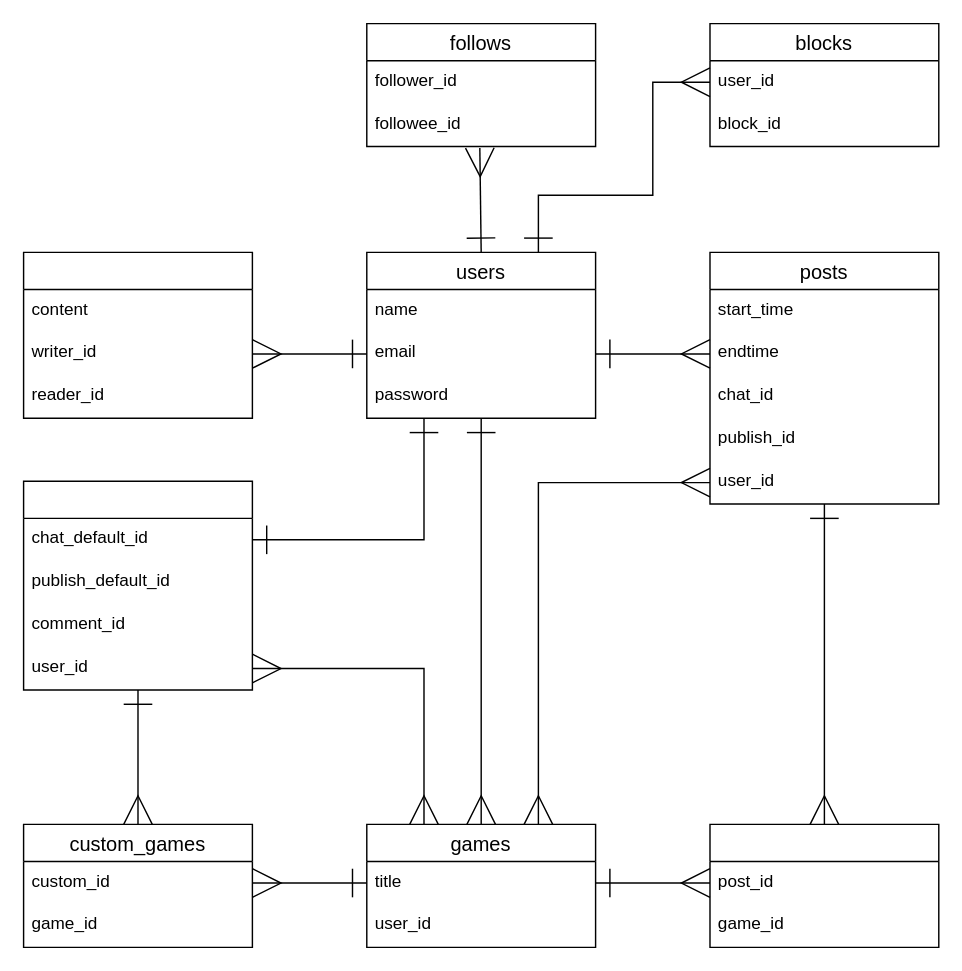
The diagram is 962 pixels wide and 971 high, and some of its shapes have lost their labels. The shapes that lost their labels are listed below. From the top down, each one's box as (x1, y1, x2, y2) in pixels, then its label:
(22, 251, 252, 418): comments
(22, 480, 252, 690): customs
(709, 823, 939, 947): post_games
